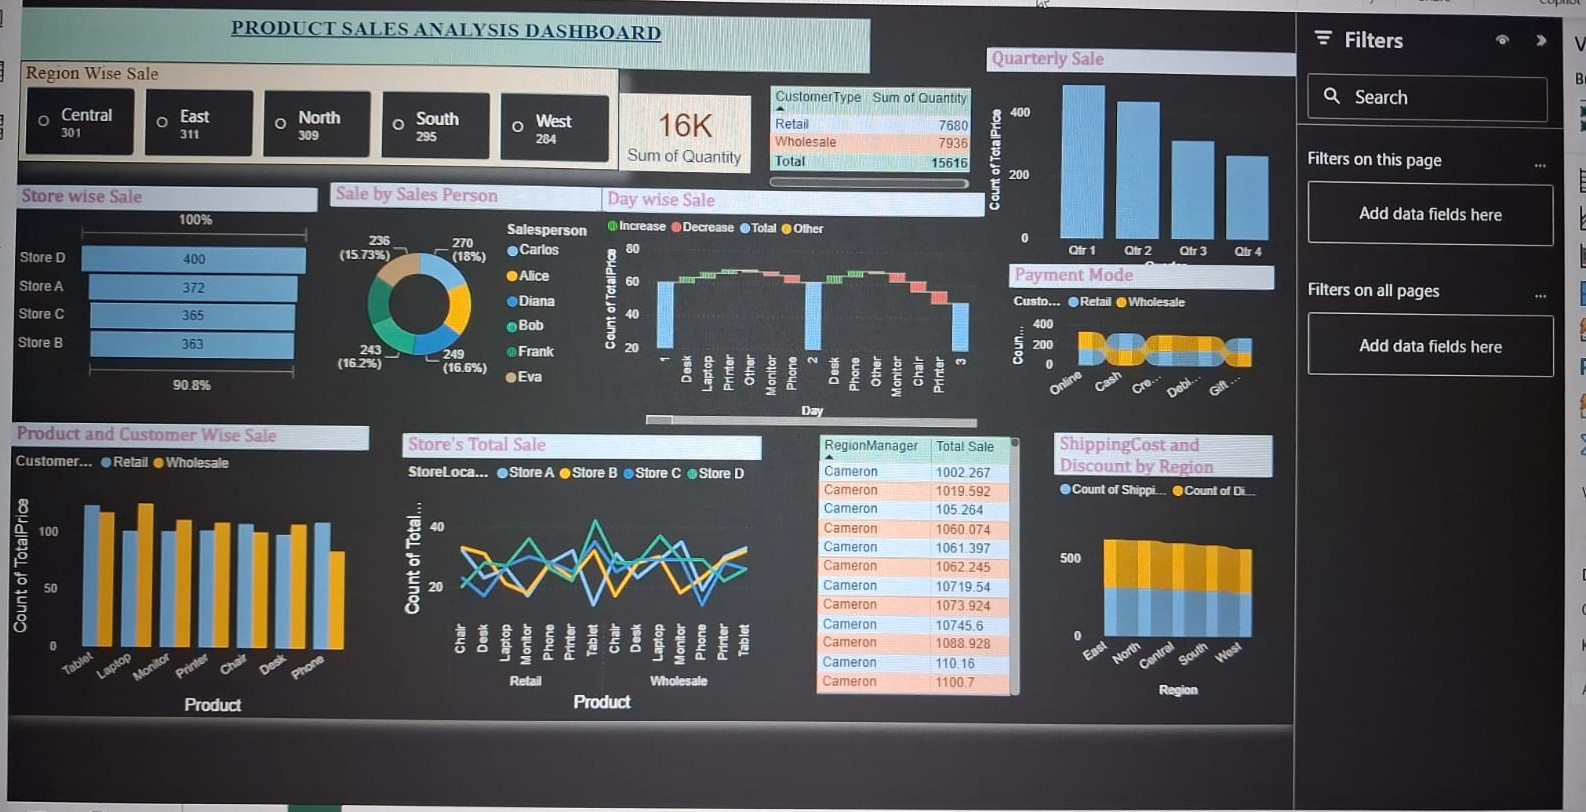

Layout of this report page (visuals, bound fields, positions):
{"tool":"powerbi","page":{"name":"Page 1","canvas":[1280,720],"ordinal":0},"visuals":[{"type":"clusteredColumnChart","title":"Product and Customer Wise Sale","fields":{"Category":["Sheet1.Product"],"Y":["CountNonNull(Sheet1.TotalPrice)"],"Series":["Sheet1.CustomerType"]},"box":[0,429.5,354,290.9],"z":0},{"type":"funnel","title":"Store wise Sale","fields":{"Category":["Sheet1.StoreLocation"],"Y":["CountNonNull(Sheet1.TotalPrice)"]},"box":[0,193.5,299.1,211.3],"z":1000},{"type":"donutChart","title":"Sale by Sales Person","fields":{"Category":["Sheet1.Salesperson"],"Y":["CountNonNull(Sheet1.TotalPrice)"]},"box":[312.9,188,267.6,220.9],"z":2000},{"type":"lineChart","title":"Store''s Total Sale","fields":{"Category":["Sheet1.CustomerType","Sheet1.Product"],"Y":["CountNonNull(Sheet1.TotalPrice)"],"Series":["Sheet1.StoreLocation"]},"box":[388.3,436.4,354,277.2],"z":3000},{"type":"lineStackedColumnComboChart","title":"Quarterly Sale","fields":{"Y":["CountNonNull(Sheet1.TotalPrice)"],"Category":["Sheet1.DeliveryDate.Variation.Date Hierarchy.Quarter","Sheet1.OrderDate.Variation.Date Hierarchy.Quarter"]},"box":[966,42.5,314.2,229.2],"z":4000},{"type":"ribbonChart","title":"ShippingCost and Discount by Region","fields":{"Category":["Sheet1.Region"],"Y":["CountNonNull(Sheet1.ShippingCost)","CountNonNull(Sheet1.Discount)"]},"box":[1038.8,429.5,216.8,266.2],"z":5000},{"type":"card","fields":{"Values":["Sum(Sheet1.Quantity)"]},"box":[596.9,93.3,131.7,76.8],"z":6000},{"type":"textbox","box":[0,15.1,848,53.5],"z":7000},{"type":"advancedSlicerVisual","title":"Region Wise Sale","fields":{"Values":["Sheet1.Region"],"Label":["CountNonNull(Sheet1.TotalPrice)"]},"box":[0,68.6,596.9,101.5],"z":8000},{"type":"tableEx","fields":{"Values":["Sheet1.CustomerType","Sum(Sheet1.Quantity)"]},"box":[742.4,78.2,212.7,109.8],"z":9000},{"type":"tableEx","fields":{"Values":["Sheet1.RegionManager","Sheet1.TotalPrice"]},"box":[795.9,429.5,212.7,266.2],"z":10000},{"type":"ribbonChart","title":"Payment Mode","fields":{"Category":["Sheet1.PaymentMethod"],"Series":["Sheet1.CustomerType"],"Y":["CountNonNull(Sheet1.TotalPrice)"]},"box":[992.1,259.3,264.8,145.5],"z":11000},{"type":"waterfallChart","title":"Day wise Sale","fields":{"Category":["Sheet1.DeliveryDate.Variation.Date Hierarchy.Day"],"Breakdown":["Sheet1.Product"],"Y":["CountNonNull(Sheet1.TotalPrice)"]},"box":[580.4,188,385.6,241.5],"z":12000}]}

Visuals, with their boxes on the page's 1280x720 design canvas (x1, y1, x2, y2). These are canvas units, not pixel positions in the 1586x812 screenshot, which may show the page scaled, cropped or inside an application window:
"Product and Customer Wise Sale" clusteredColumnChart: <bbox>0, 430, 354, 720</bbox>
"Store wise Sale" funnel: <bbox>0, 194, 299, 405</bbox>
"Sale by Sales Person" donutChart: <bbox>313, 188, 580, 409</bbox>
"Store''s Total Sale" lineChart: <bbox>388, 436, 742, 714</bbox>
"Quarterly Sale" lineStackedColumnComboChart: <bbox>966, 42, 1280, 272</bbox>
"ShippingCost and Discount by Region" ribbonChart: <bbox>1039, 430, 1256, 696</bbox>
card - Sum(Sheet1.Quantity): <bbox>597, 93, 729, 170</bbox>
textbox: <bbox>0, 15, 848, 69</bbox>
"Region Wise Sale" advancedSlicerVisual: <bbox>0, 69, 597, 170</bbox>
tableEx - Sheet1.CustomerType x Sum(Sheet1.Quantity): <bbox>742, 78, 955, 188</bbox>
tableEx - Sheet1.RegionManager x Sheet1.TotalPrice: <bbox>796, 430, 1009, 696</bbox>
"Payment Mode" ribbonChart: <bbox>992, 259, 1257, 405</bbox>
"Day wise Sale" waterfallChart: <bbox>580, 188, 966, 430</bbox>
